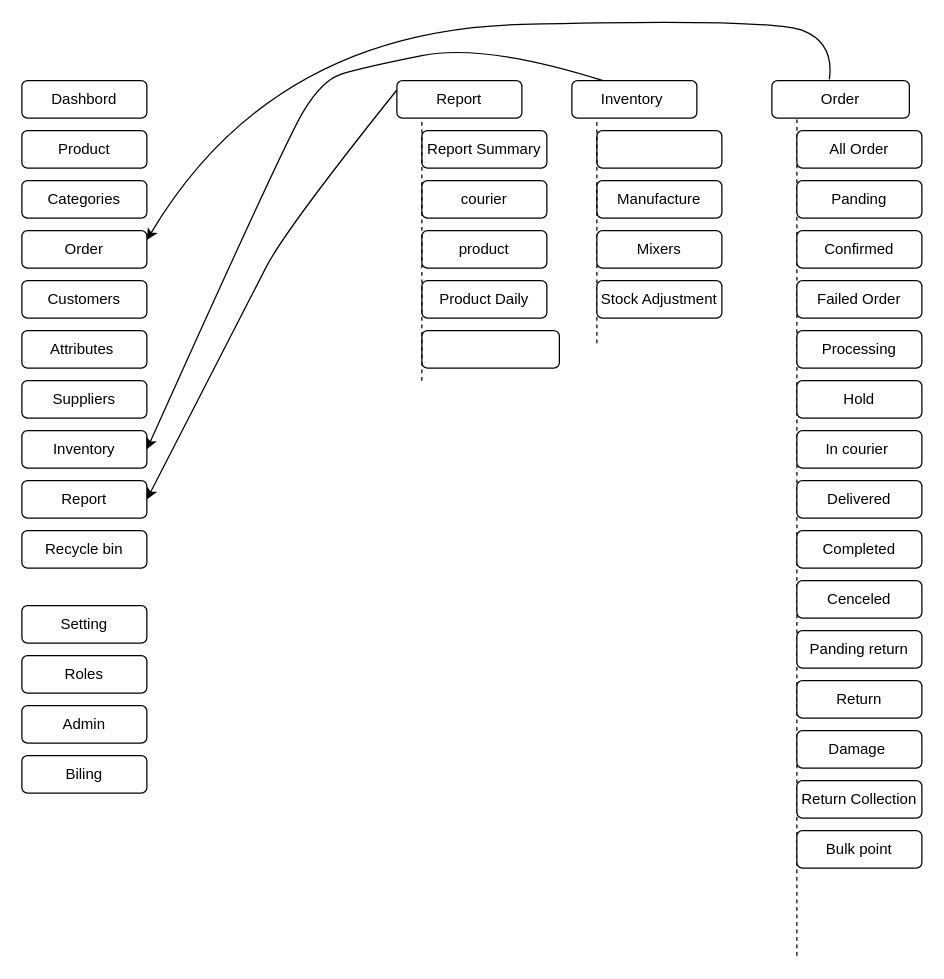
The diagram is 944 pixels wide and 979 high, and some of its shapes have lost their labels. The box of each missing label's shape, as (x1, y1, x2, y2) in pixels:
Employee Activities: (421, 329, 559, 368)
purchases: (596, 129, 722, 168)
